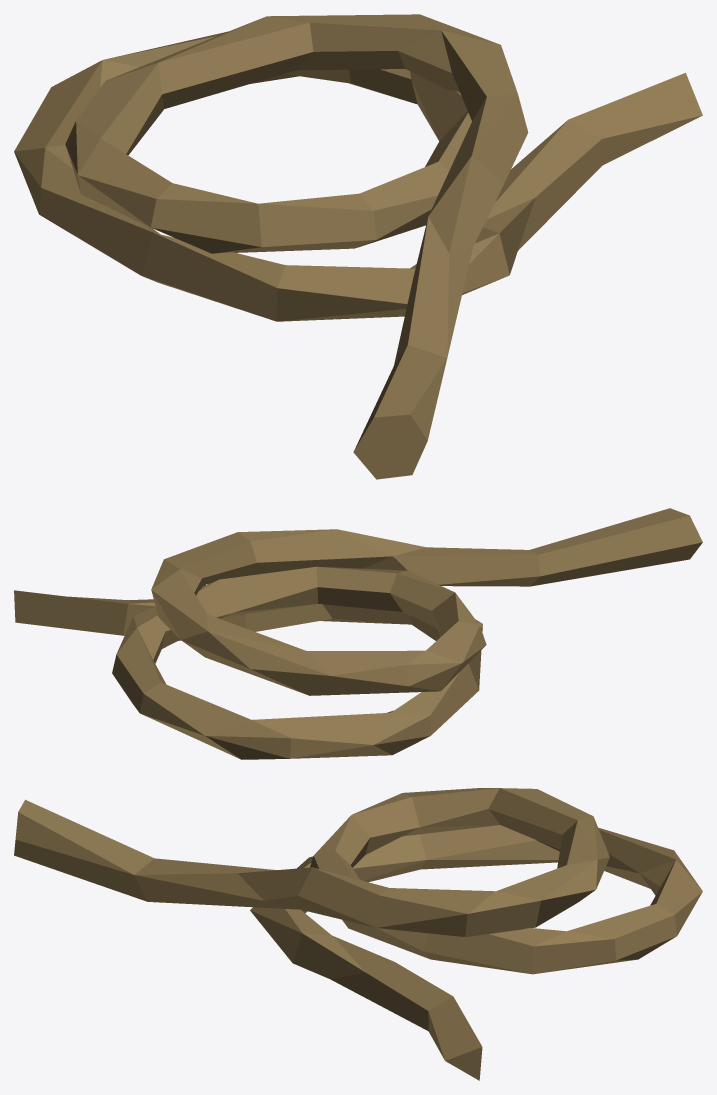
The model's file is LP_PostApoc_RopeB.fbx.
3 views of the same model, one above another, from view 1: azimuth 30°, elevation 25°; view 2: azimuth 150°, elevation 25°; view 3: azimuth 270°, elevation 25° (orthographic). The views are drawn at different scales.
Parts seen in each view (by area): view 1: RopeB; view 2: RopeB; view 3: RopeB.
Part boxes in pixels (left/top/right/bottom): RopeB: left=14, top=14, right=702, bottom=479; RopeB: left=14, top=508, right=702, bottom=759; RopeB: left=14, top=788, right=702, bottom=1080.
Bounding box in the file's own units: 67.63 × 14.8 × 84.69.
